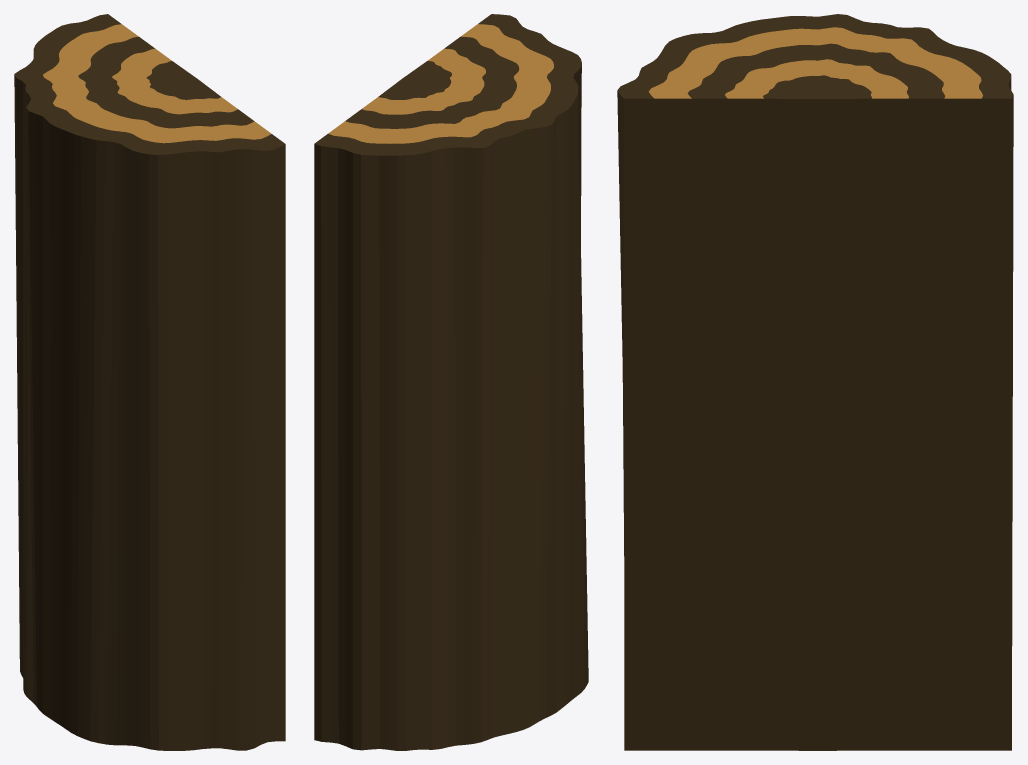
File: HalfLogTemporaryRight.fbx
3 renders of one model, left to right at view 1: azimuth 30°, elevation 25°; view 2: azimuth 150°, elevation 25°; view 3: azimuth 270°, elevation 25°, orthographic. The views are drawn at different scales.
Visible parts, largest first — view 1: HalfLogTemporaryRight; view 2: HalfLogTemporaryRight; view 3: HalfLogTemporaryRight.
Boxes of the visible parts, left/top/right/bottom form: HalfLogTemporaryRight: left=14, top=14, right=285, bottom=750; HalfLogTemporaryRight: left=314, top=14, right=588, bottom=750; HalfLogTemporaryRight: left=617, top=14, right=1013, bottom=750.
Size of the model in its own units: 72.98 by 261 by 144.
